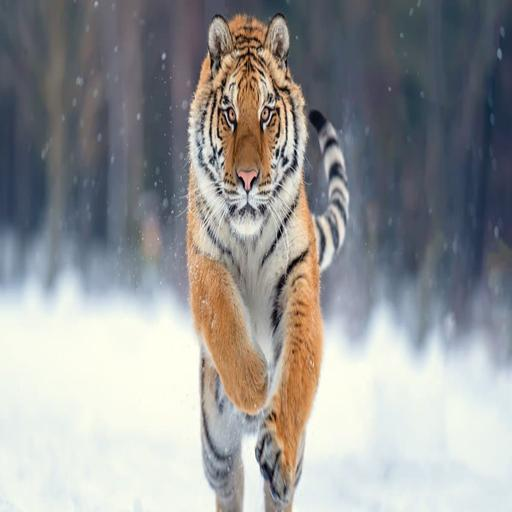Tiger: (170, 5, 363, 512)
